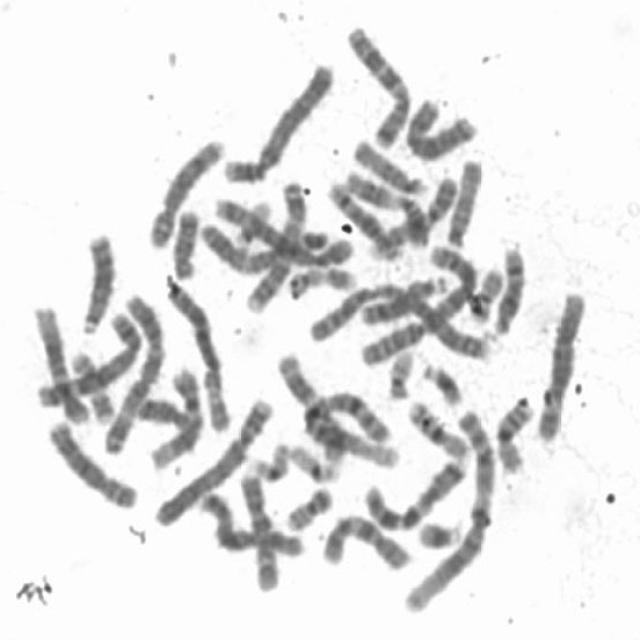A1: (398, 400, 500, 616), (271, 344, 401, 470)
A2: (352, 238, 479, 369), (306, 278, 496, 362)
A3: (96, 286, 170, 455), (205, 189, 341, 271)
B4: (148, 390, 276, 528), (219, 55, 336, 186)
B5: (30, 306, 145, 410), (210, 190, 354, 271)
C10: (315, 507, 414, 573), (232, 464, 282, 593)
C11: (271, 343, 348, 462), (340, 163, 432, 250)
C12: (29, 297, 93, 427), (146, 361, 206, 472)
C6: (158, 268, 232, 434), (531, 282, 591, 444)
C7: (341, 16, 415, 151), (359, 452, 471, 532)
C8: (142, 130, 228, 251), (41, 413, 140, 511)
C9: (237, 176, 307, 316), (368, 170, 460, 261)
D13: (356, 269, 450, 328), (74, 224, 117, 336)
D14: (322, 175, 403, 263), (487, 239, 529, 336)
D15: (347, 132, 429, 198), (440, 153, 486, 250)
E16: (402, 393, 472, 461), (490, 389, 537, 475)
E17: (64, 345, 115, 426), (283, 260, 358, 300)
E18: (167, 203, 202, 280), (131, 390, 195, 431)
F19: (285, 439, 343, 484), (246, 436, 293, 484)
F20: (281, 480, 336, 532), (464, 261, 505, 325)
G21: (417, 355, 466, 408), (413, 514, 465, 552)
G22: (230, 194, 274, 251), (382, 343, 418, 402)
X: (193, 484, 310, 560), (401, 90, 481, 163)
